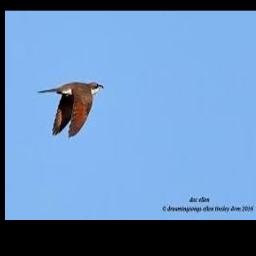Cuckoo: (35, 81, 103, 136)
